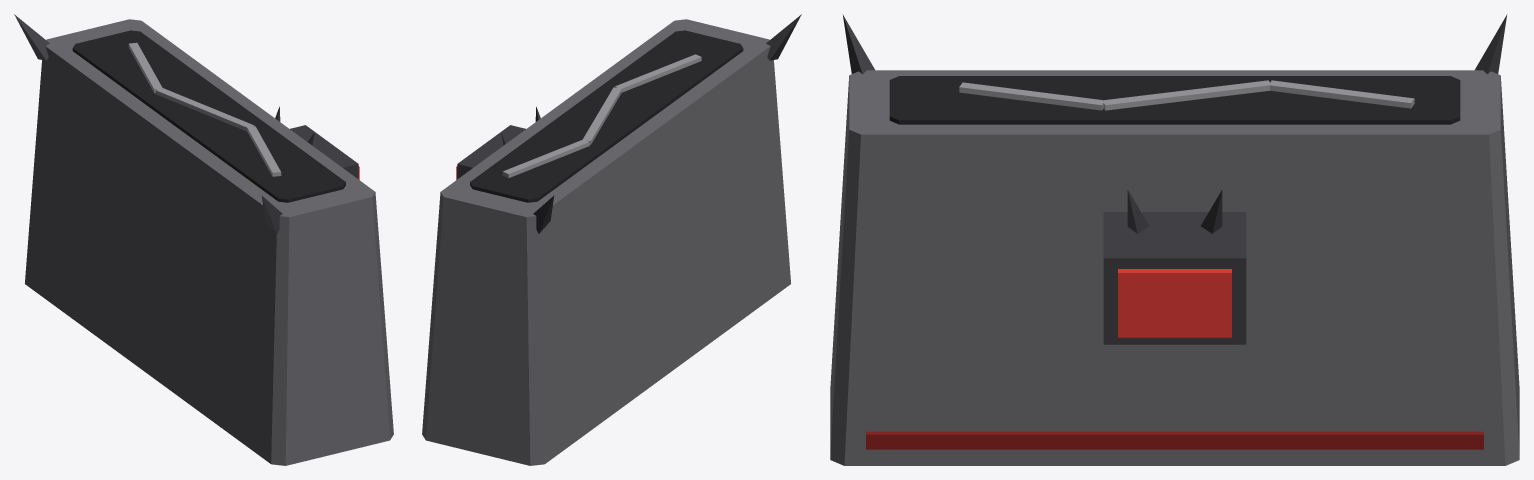
The model's file is void_monolith_left_d.obj.
3 views of the same model, side by side, from view 1: azimuth 30°, elevation 25°; view 2: azimuth 150°, elevation 25°; view 3: azimuth 270°, elevation 25° (orthographic). The views are drawn at different scales.
Visible parts, largest first — view 1: void_monolith_left_d_0, void_monolith_left_d_1, void_monolith_left_d_5, void_monolith_left_d_3, void_monolith_left_d_2, void_monolith_left_d_4, void_monolith_left_d_11, void_monolith_left_d_10; view 2: void_monolith_left_d_0, void_monolith_left_d_1, void_monolith_left_d_5, void_monolith_left_d_4, void_monolith_left_d_2, void_monolith_left_d_3, void_monolith_left_d_10, void_monolith_left_d_11; view 3: void_monolith_left_d_0, void_monolith_left_d_1, void_monolith_left_d_7, void_monolith_left_d_5, void_monolith_left_d_6, void_monolith_left_d_3, void_monolith_left_d_2, void_monolith_left_d_4, void_monolith_left_d_10, void_monolith_left_d_11.
Boxes of the visible parts, x1,y1,x2,y2 form: void_monolith_left_d_0: [25, 19, 393, 465]; void_monolith_left_d_1: [72, 30, 345, 202]; void_monolith_left_d_5: [290, 125, 358, 179]; void_monolith_left_d_3: [155, 87, 254, 131]; void_monolith_left_d_2: [247, 126, 281, 176]; void_monolith_left_d_4: [128, 42, 162, 93]; void_monolith_left_d_11: [14, 14, 49, 60]; void_monolith_left_d_10: [261, 195, 282, 233]; void_monolith_left_d_0: [422, 19, 790, 465]; void_monolith_left_d_1: [470, 30, 743, 202]; void_monolith_left_d_5: [457, 125, 525, 179]; void_monolith_left_d_4: [502, 140, 589, 177]; void_monolith_left_d_2: [614, 54, 701, 92]; void_monolith_left_d_3: [582, 87, 621, 144]; void_monolith_left_d_10: [766, 14, 801, 60]; void_monolith_left_d_11: [533, 195, 554, 233]; void_monolith_left_d_0: [830, 70, 1519, 465]; void_monolith_left_d_1: [889, 76, 1460, 124]; void_monolith_left_d_7: [866, 431, 1483, 449]; void_monolith_left_d_5: [1103, 212, 1246, 344]; void_monolith_left_d_6: [1118, 269, 1231, 337]; void_monolith_left_d_3: [1103, 80, 1271, 110]; void_monolith_left_d_2: [959, 82, 1104, 110]; void_monolith_left_d_4: [1270, 80, 1414, 108]; void_monolith_left_d_10: [842, 14, 874, 74]; void_monolith_left_d_11: [1475, 14, 1507, 74].
Bounding box in the file's own units: 1.31 × 1.69 × 2.9.
